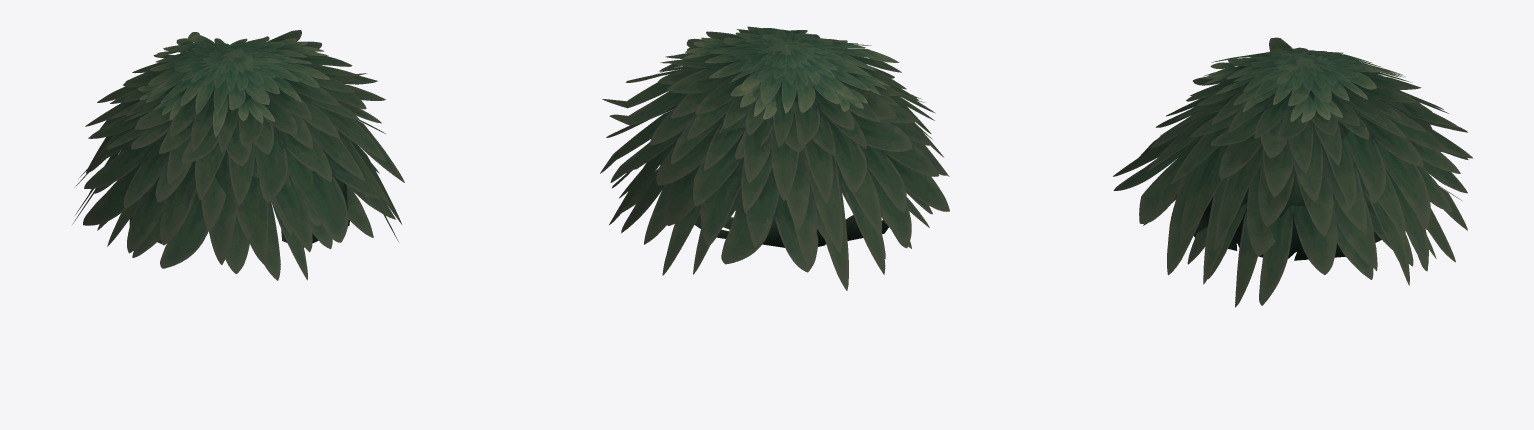
File: Prop_Bush_1_Darline_m.fbx
3 views of the same model, side by side, from view 1: azimuth 30°, elevation 25°; view 2: azimuth 150°, elevation 25°; view 3: azimuth 270°, elevation 25° (orthographic). The views are drawn at different scales.
Visible parts, largest first — view 1: Prop_Bush_1_Darline_m; view 2: Prop_Bush_1_Darline_m; view 3: Prop_Bush_1_Darline_m.
Boxes of the visible parts, box(x1,y1,x2,y2) form: Prop_Bush_1_Darline_m: box(72, 30, 404, 280); Prop_Bush_1_Darline_m: box(600, 26, 949, 290); Prop_Bush_1_Darline_m: box(1113, 37, 1472, 307).
Size of the model in its own units: 141 by 81.81 by 124.
